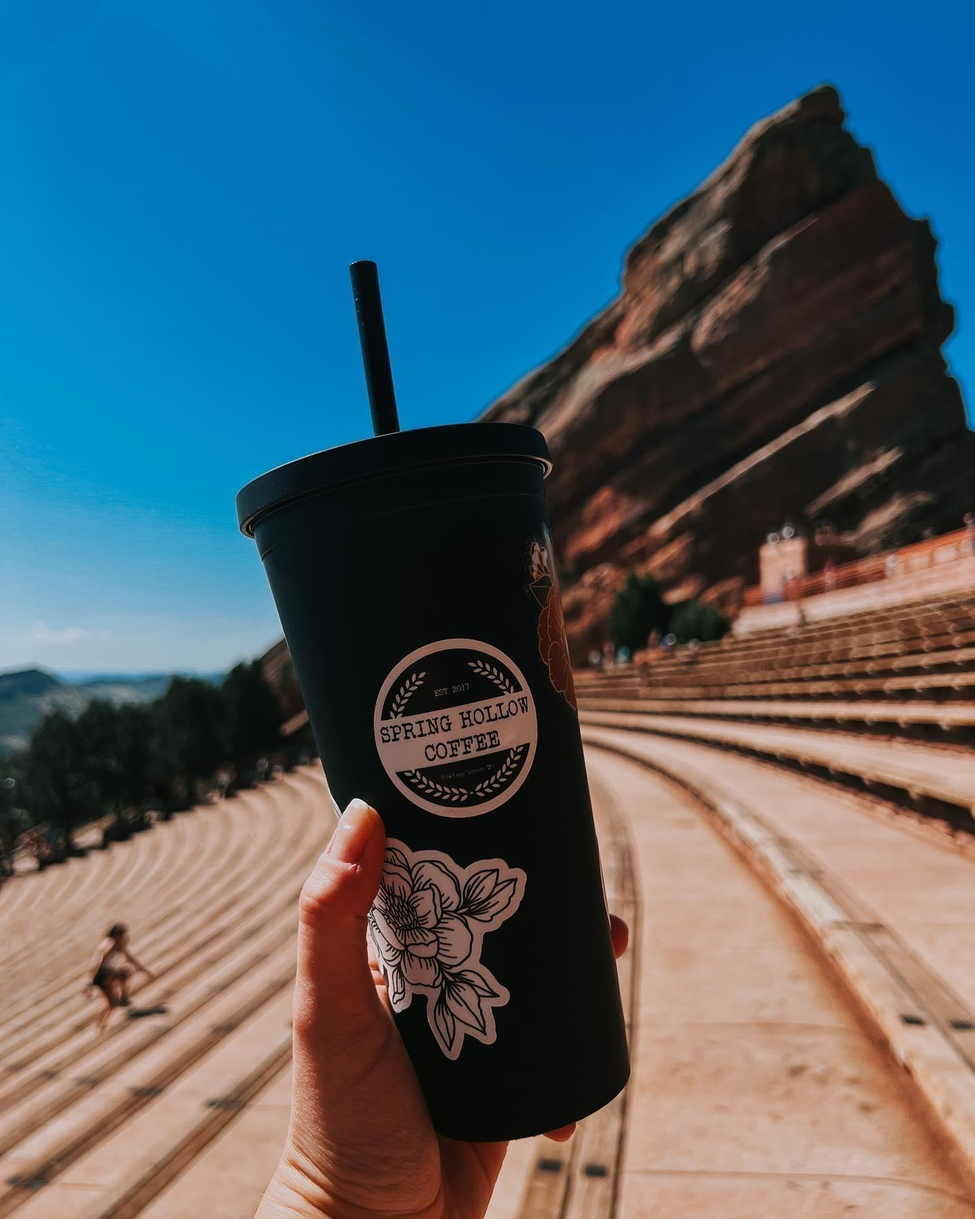cup-disposable: (232, 410, 643, 1161)
